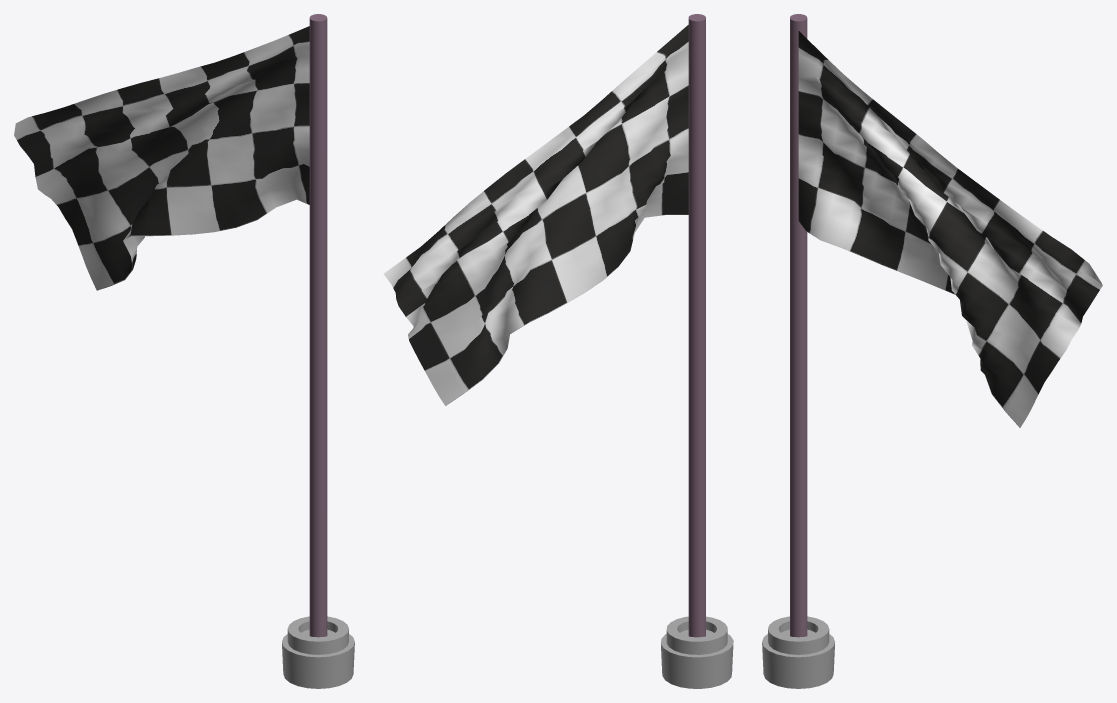
Rendered from FbxFlag.fbx.
The picture shows the model from 3 angles, left to right: view 1: azimuth 90°, elevation 25°; view 2: azimuth 150°, elevation 25°; view 3: azimuth 270°, elevation 25°; orthographic projection.
Parts seen in each view (by area): view 1: pPlane2, pCylinder30, pCylinder29; view 2: pPlane2, pCylinder30, pCylinder29; view 3: pPlane2, pCylinder30, pCylinder29.
Part boxes in pixels (x1,y1,x2,y2): pPlane2: (14, 26, 309, 290); pCylinder30: (309, 14, 327, 637); pCylinder29: (282, 616, 354, 688); pPlane2: (383, 25, 688, 405); pCylinder30: (688, 14, 705, 637); pCylinder29: (660, 616, 733, 688); pPlane2: (798, 31, 1102, 427); pCylinder30: (790, 14, 807, 637); pCylinder29: (762, 616, 834, 688).
Bounding box in the file's own units: 7.99 × 25.88 × 12.15.
3 materials, 1 textured.
